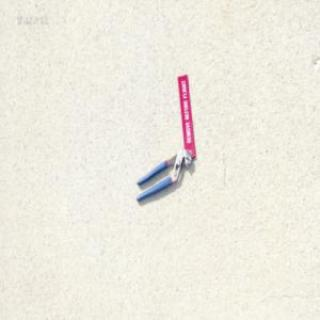LuggageTagtrack_idkeyframe: (174, 70, 194, 158)
Pliertrack_idkeyframe: (135, 147, 191, 202)
